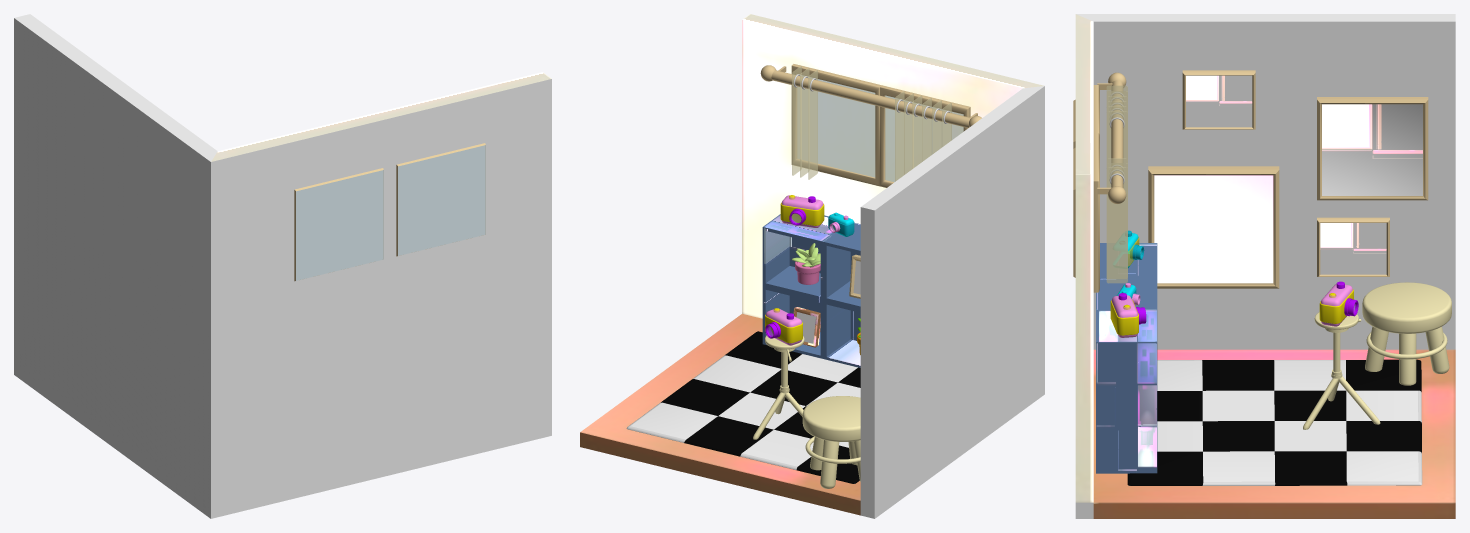
Rendered from room_photo_2.gltf.
3 views of the same model, side by side, from view 1: azimuth 30°, elevation 25°; view 2: azimuth 150°, elevation 25°; view 3: azimuth 270°, elevation 25° (orthographic). The views are drawn at different scales.
Parts seen in each view (by area): view 1: room'.1-Mat.2, Cube.3-Mat.24, Cube.2-Mat.24, room'.1-Mat.15; view 2: room'.1-Mat.2, room'.1-Mat.15, room'.1-Mat.14, Cube, Cube.1-Mat.2, Cube.1-Mat.18, Cube.3-Mat.24, Cylinder.1 (×3), Cube.2-Mat.24, Cube.3-Mat.1, Cube.2-Mat.1, Cube.14 (+8 smaller); view 3: room'.1-Mat.2, room'.1-Mat.14, Cube.1-Mat.18, Cube.1-Mat.2, frame-Mat.2, Cube, frame.1-Mat.2, room'.1-Mat.15, Cylinder.1 (×3), frame.2-Mat.2, frame.3-Mat.2, frame-Mat.1 (+16 smaller).
Part boxes in pixels (box(x1,y1,x2,y2)): room'.1-Mat.2: box(14, 14, 551, 518); Cube.3-Mat.24: box(398, 145, 485, 255); Cube.2-Mat.24: box(296, 170, 383, 280); room'.1-Mat.15: box(211, 72, 551, 161); room'.1-Mat.2: box(860, 86, 1044, 518); room'.1-Mat.15: box(742, 14, 1044, 318); room'.1-Mat.14: box(580, 313, 860, 515); Cube: box(762, 214, 860, 367); Cube.1-Mat.2: box(630, 354, 860, 466); Cube.1-Mat.18: box(661, 331, 860, 483); Cube.3-Mat.24: box(798, 75, 875, 177); Cylinder.1 (×3): box(765, 70, 970, 441); Cube.2-Mat.24: box(885, 95, 963, 181); Cube.3-Mat.1: box(791, 64, 881, 186); Cube.2-Mat.1: box(880, 85, 970, 187); Cube.14: box(808, 70, 817, 179); room'.1-Mat.2: box(1075, 14, 1455, 518); room'.1-Mat.14: box(1093, 349, 1455, 518); Cube.1-Mat.18: box(1127, 359, 1421, 485); Cube.1-Mat.2: box(1157, 360, 1418, 481); frame-Mat.2: box(1154, 175, 1273, 283); Cube: box(1096, 243, 1157, 473); frame.1-Mat.2: box(1322, 104, 1422, 195); room'.1-Mat.15: box(1075, 14, 1093, 502); Cylinder.1 (×3): box(1111, 80, 1451, 378); frame.2-Mat.2: box(1186, 75, 1252, 127); frame.3-Mat.2: box(1320, 223, 1386, 274); frame-Mat.1: box(1148, 166, 1279, 288).
Bounding box in the file's own units: 1050 × 1050 × 1056.
